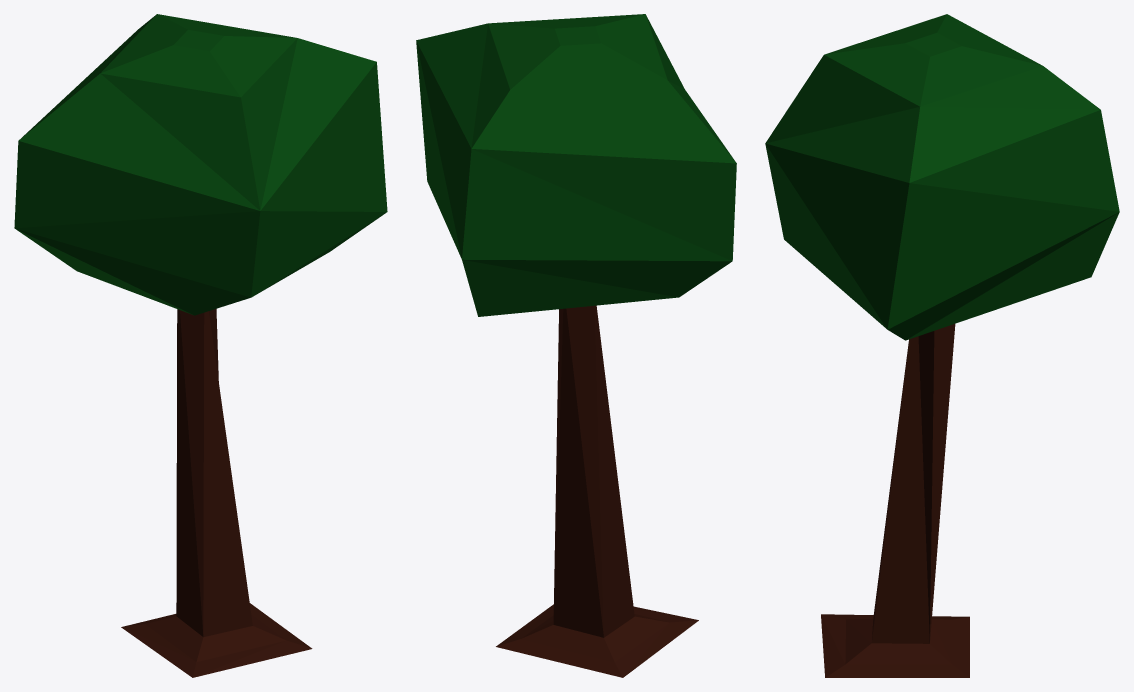
File: tree.obj
The picture shows the model from 3 angles, left to right: view 1: azimuth 30°, elevation 25°; view 2: azimuth 150°, elevation 25°; view 3: azimuth 270°, elevation 25°; orthographic projection. The views are drawn at different scales.
Parts seen in each view (by area): view 1: Leaves_Base, Base_Base.001; view 2: Leaves_Base, Base_Base.001; view 3: Leaves_Base, Base_Base.001.
Part boxes in pixels (x1,y1,x2,y2): Leaves_Base: (14,14,387,315); Base_Base.001: (121,309,312,677); Leaves_Base: (416,14,736,316); Base_Base.001: (496,305,698,677); Leaves_Base: (765,14,1119,340); Base_Base.001: (821,324,969,677).
Size of the model in its own units: 0.9511 by 1.6 by 0.8528.
